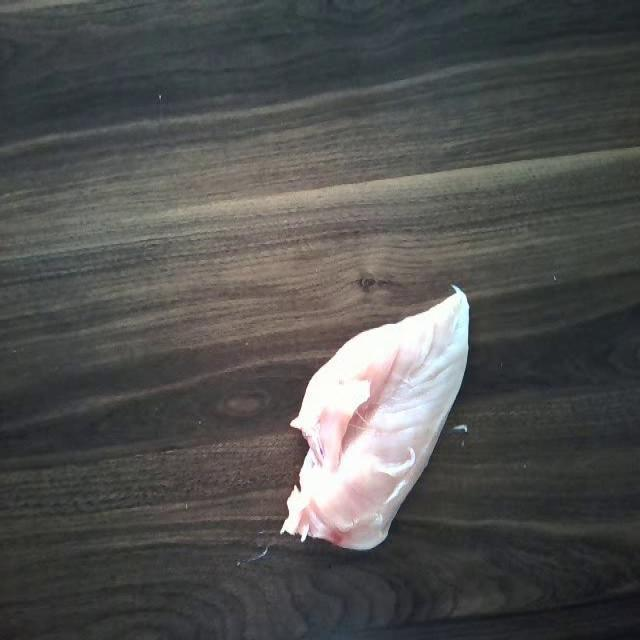breast: (290, 294, 467, 552)
